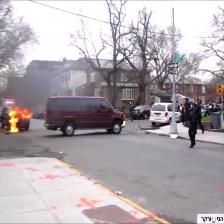fire: (3, 98, 38, 139)
nofire: (210, 80, 224, 99)
